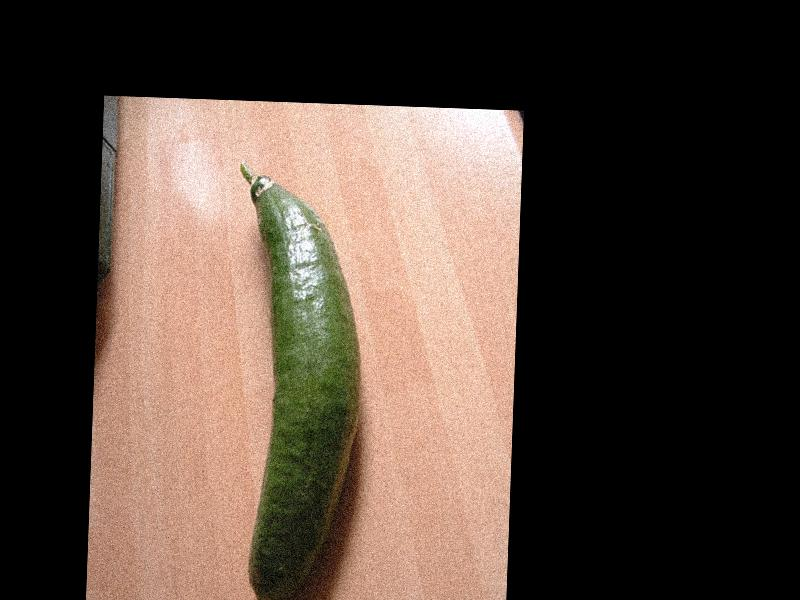Cucumber: (225, 162, 370, 600)
